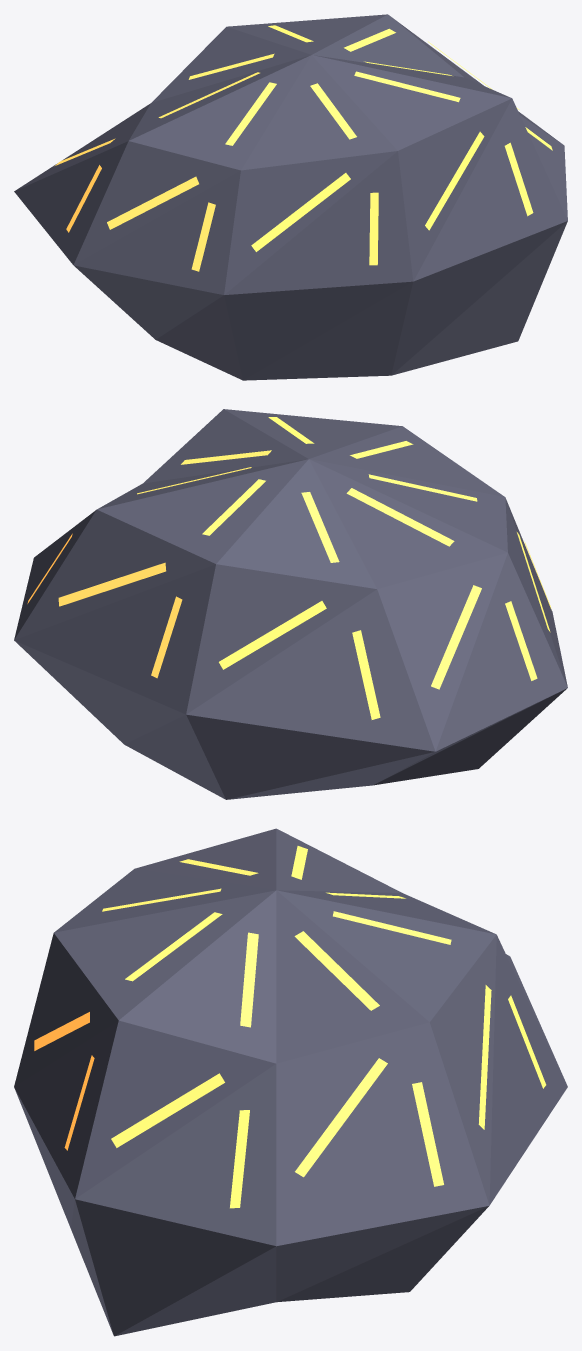
File: glowing_lava_rock.glb
3 views of the same model, one above another, from view 1: azimuth 30°, elevation 25°; view 2: azimuth 150°, elevation 25°; view 3: azimuth 270°, elevation 25° (orthographic). The views are drawn at different scales.
Parts seen in each view (by area): view 1: glowing_lava_rock; view 2: glowing_lava_rock; view 3: glowing_lava_rock.
Part boxes in pixels (bbox=[...]): glowing_lava_rock: bbox=[14, 14, 567, 380]; glowing_lava_rock: bbox=[14, 409, 567, 799]; glowing_lava_rock: bbox=[14, 828, 567, 1336].
Size of the model in its own units: 1.86 by 1.1 by 1.4.
